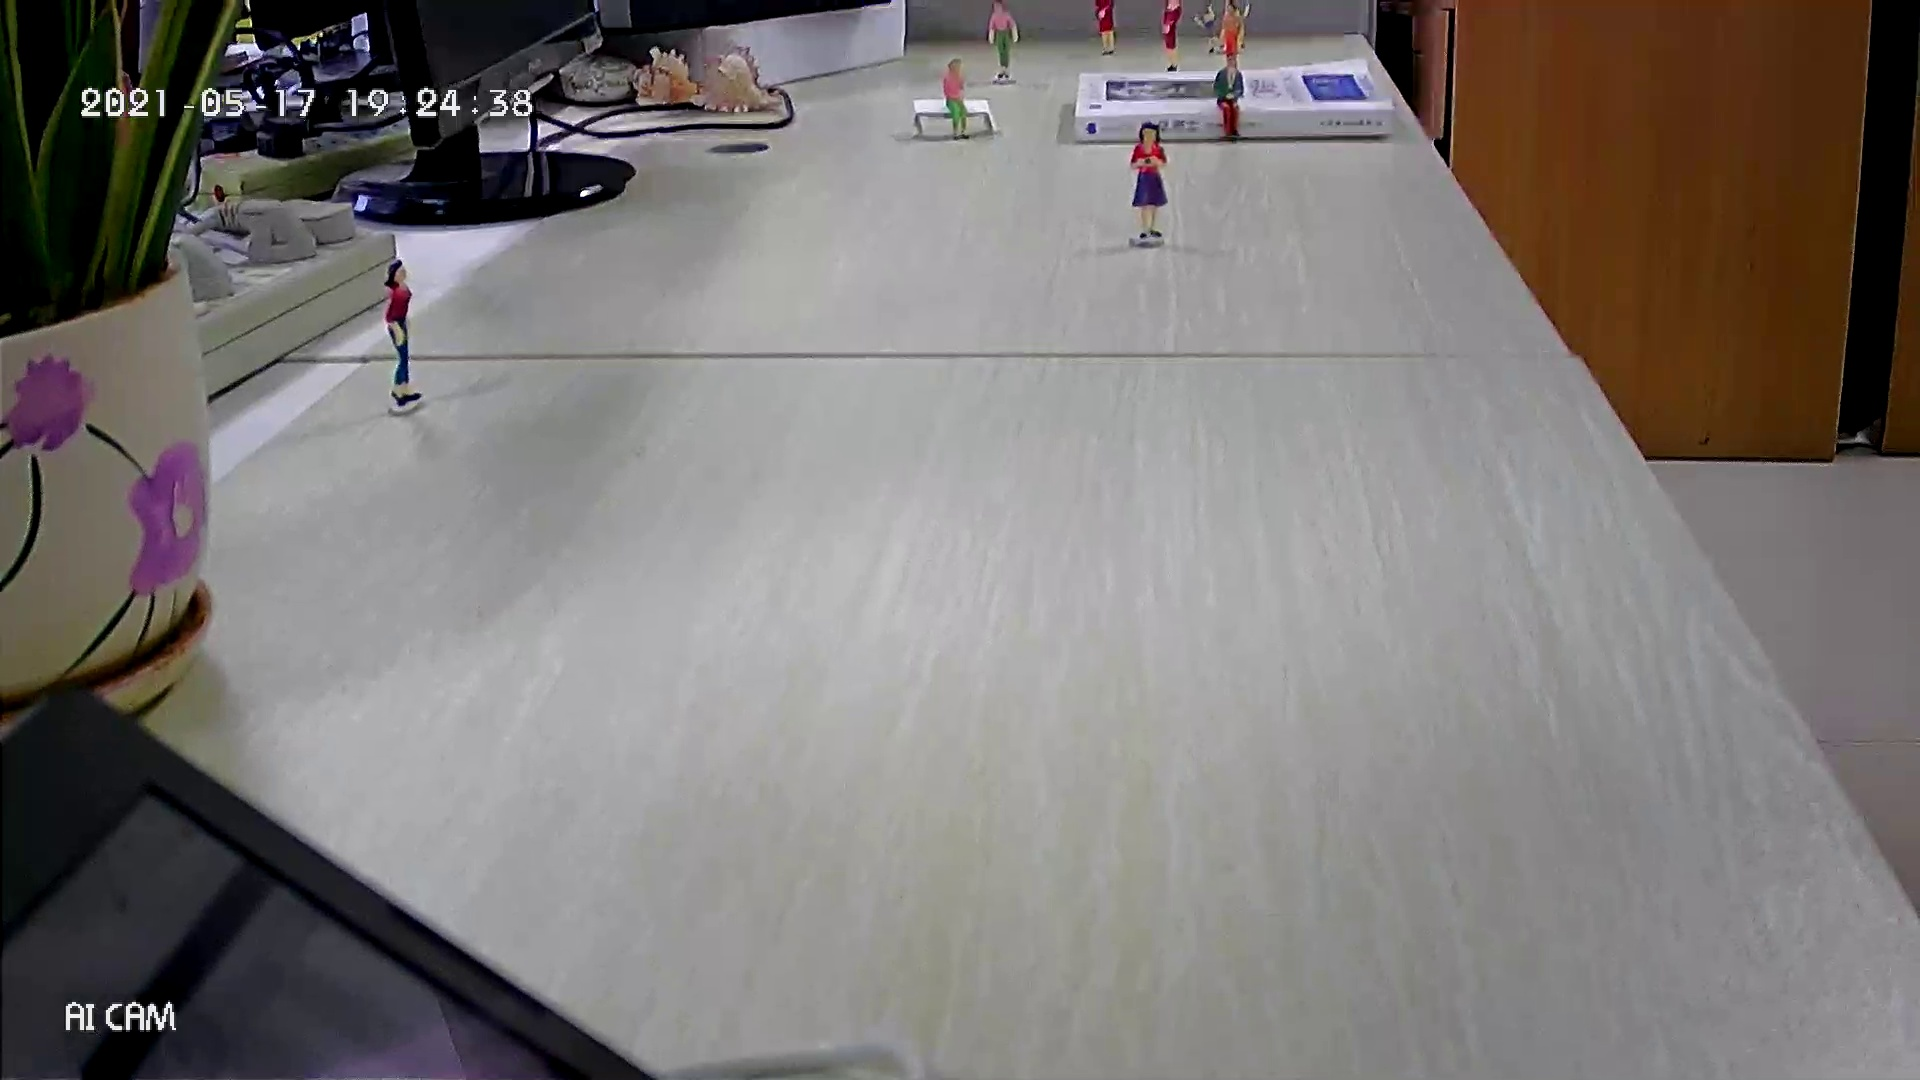person: (382, 258, 423, 408), (1127, 121, 1170, 241), (1213, 55, 1246, 143), (985, 1, 1021, 81), (943, 57, 972, 142), (1157, 1, 1185, 73), (1192, 3, 1227, 55), (1219, 1, 1243, 69), (1093, 1, 1118, 57), (1230, 3, 1253, 53)
